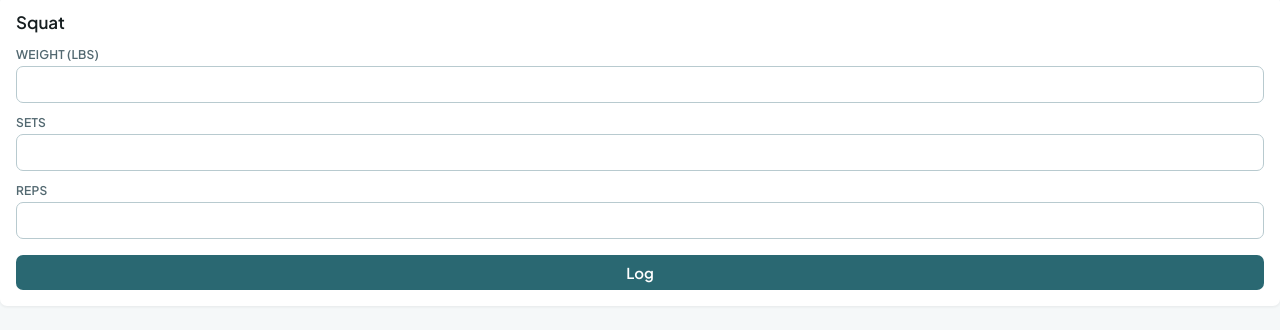
Test: ExerciseCard › shows only weight error when weight is 0
This screenshot has width=1280, height=330.
Type "0" into the number field labelled "Weight (lbs)".
click(640, 84); type("0")  # box x1=16 y1=66 x2=1264 y2=103
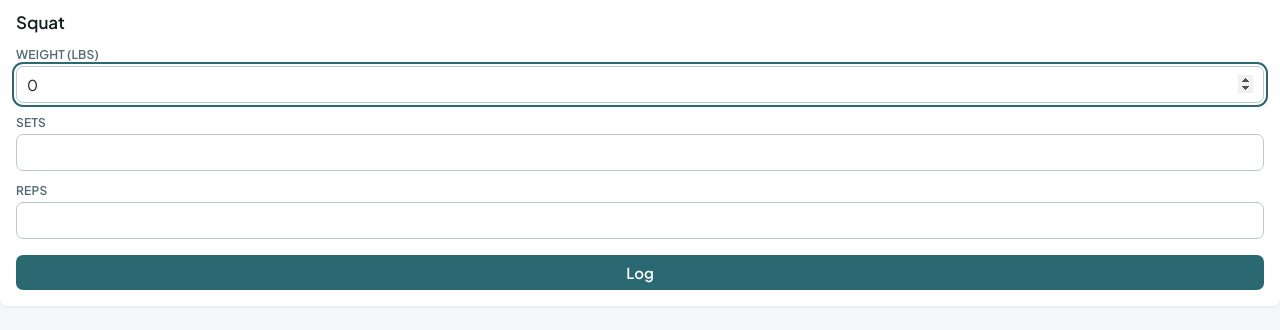
Type "3" into the number field labelled "Sets".
click(640, 152); type("3")  # box x1=16 y1=134 x2=1264 y2=171
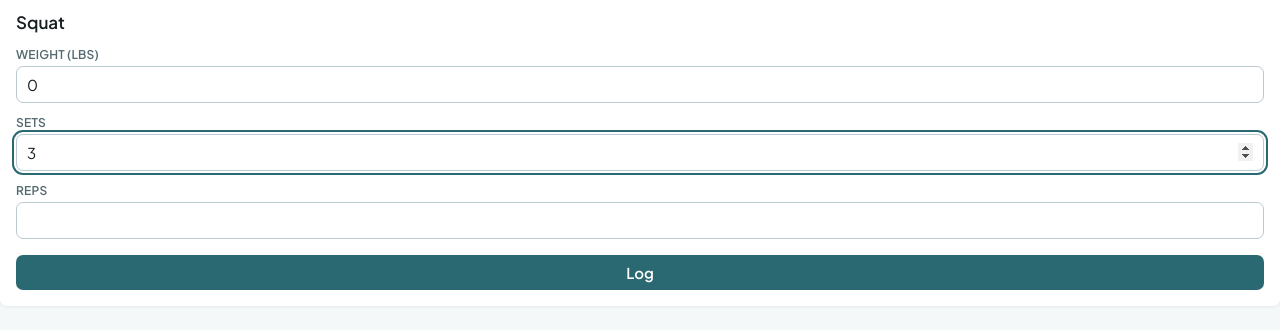
Type "5" into the number field labelled "Reps".
click(640, 220); type("5")  # box x1=16 y1=202 x2=1264 y2=239
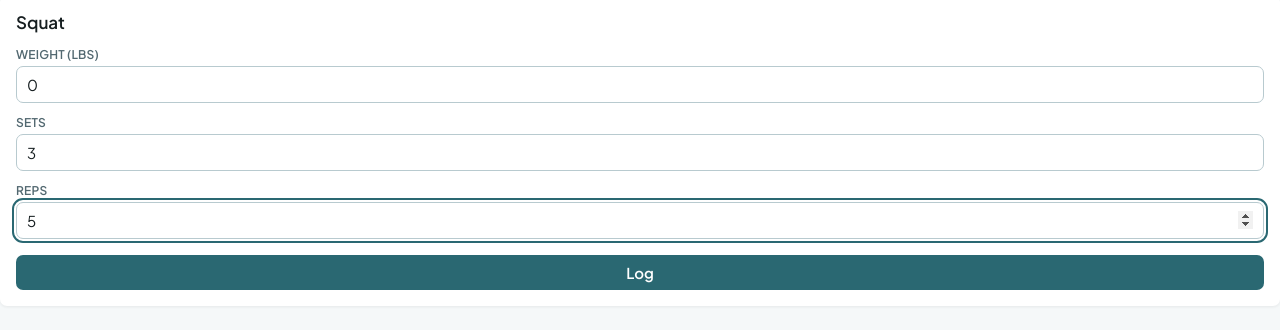
Click the button "Log".
click(640, 272)  # box x1=16 y1=255 x2=1264 y2=290
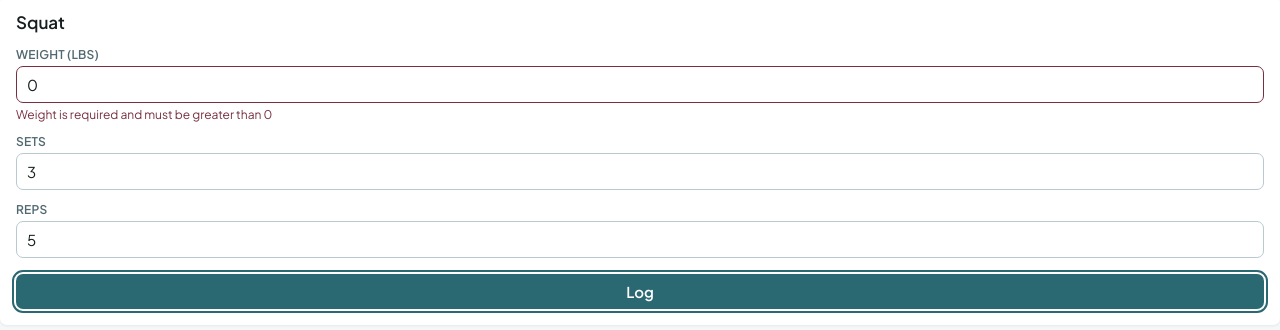
Expected: the text "Weight is required and must be greater than 0" is shown, x1=16 y1=107 x2=272 y2=122
